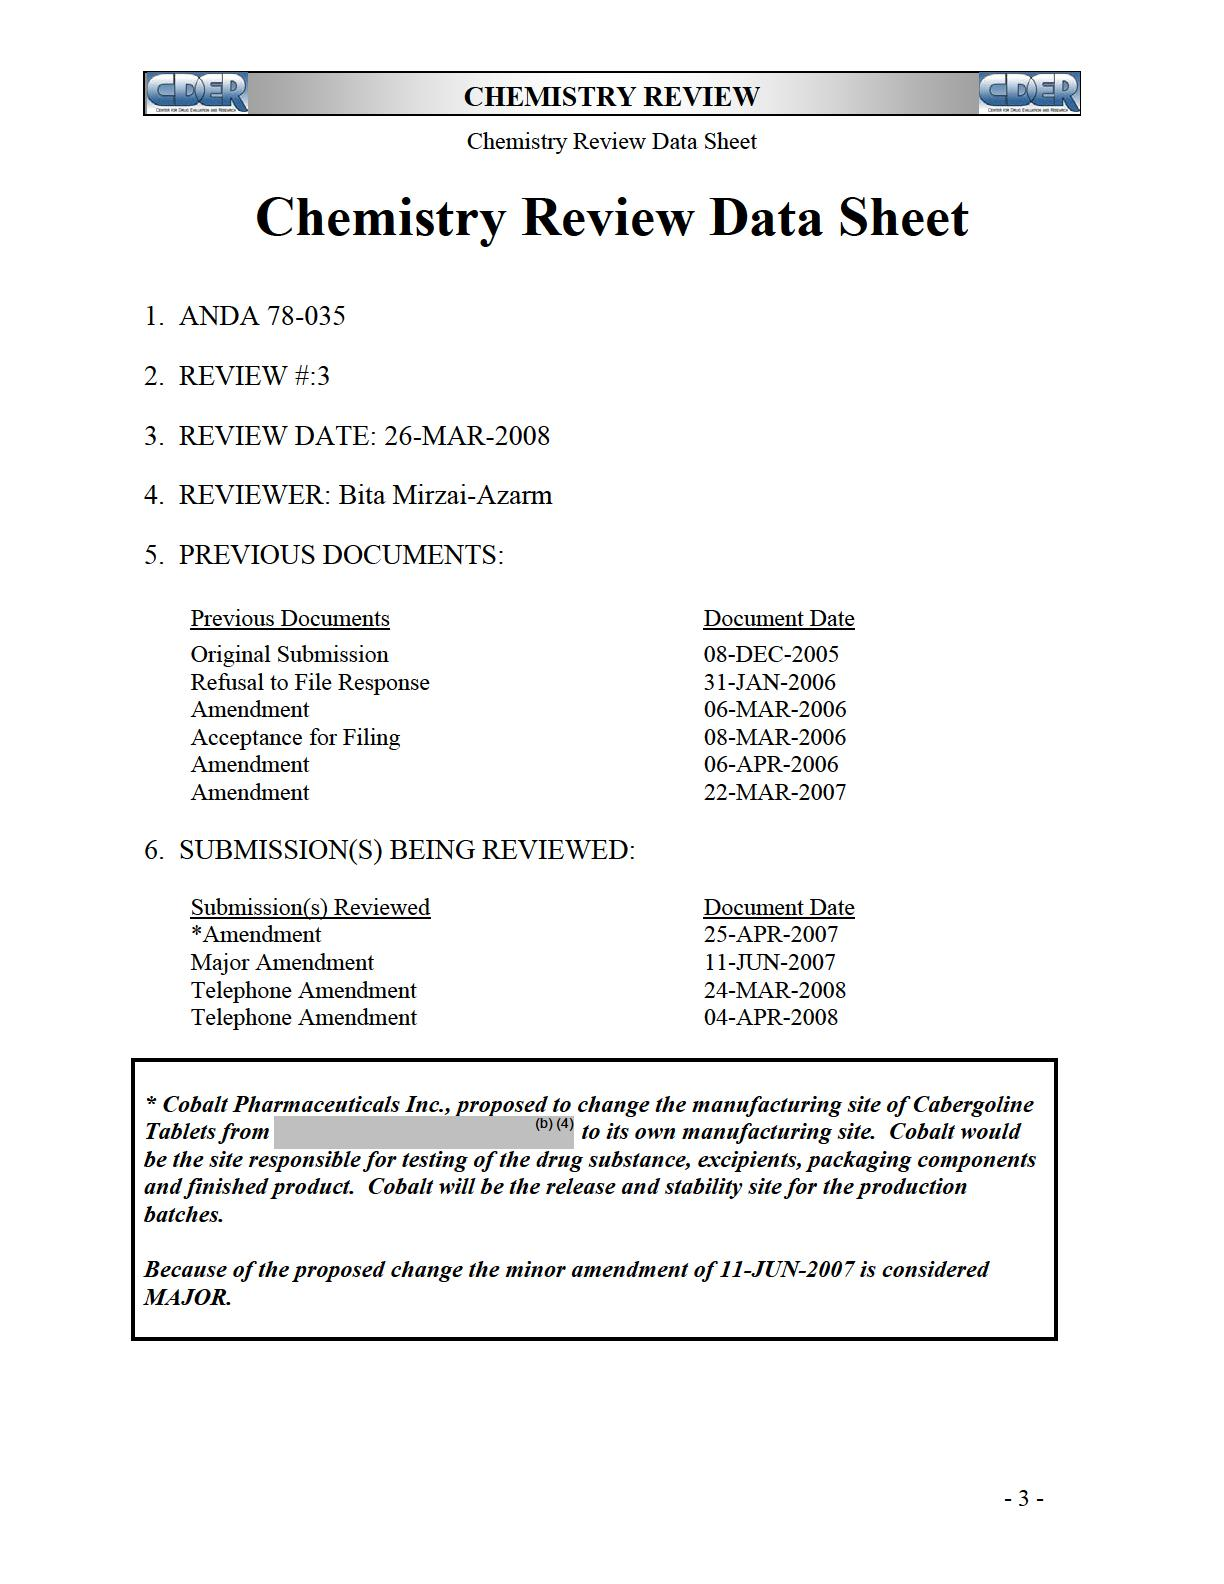nolines: (183, 603, 859, 807), (183, 891, 859, 1029)
